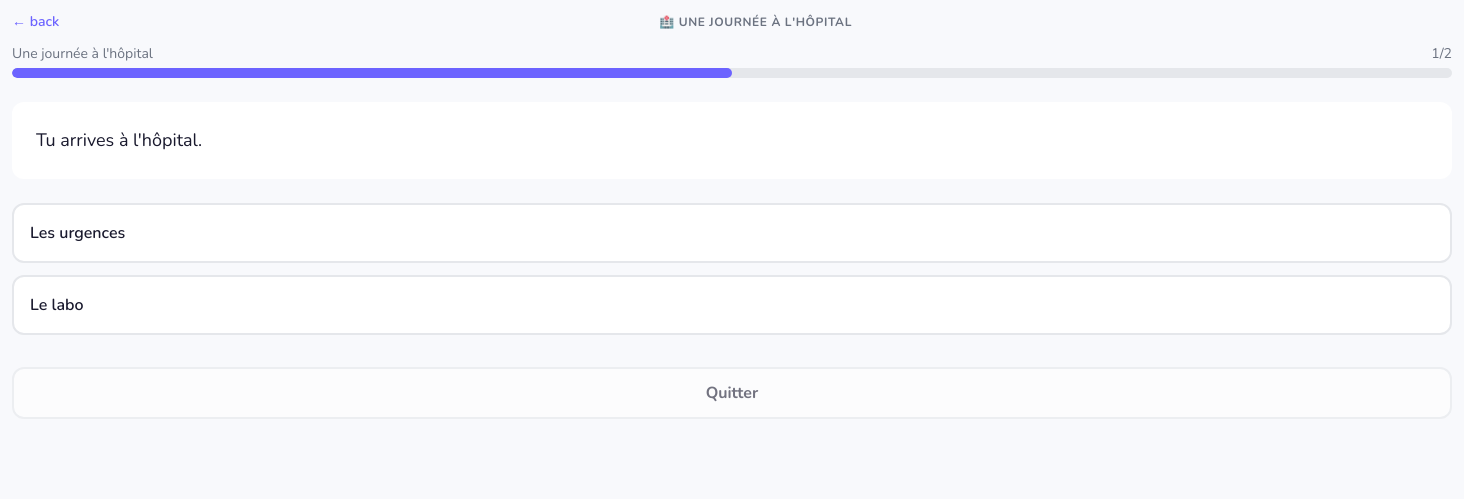
Scenario: ScenarioPlayer › advances to the end screen when a choice leads to a final scene
Click the button "Les urgences" at coordinates (78, 233), box [12,203,1452,263]
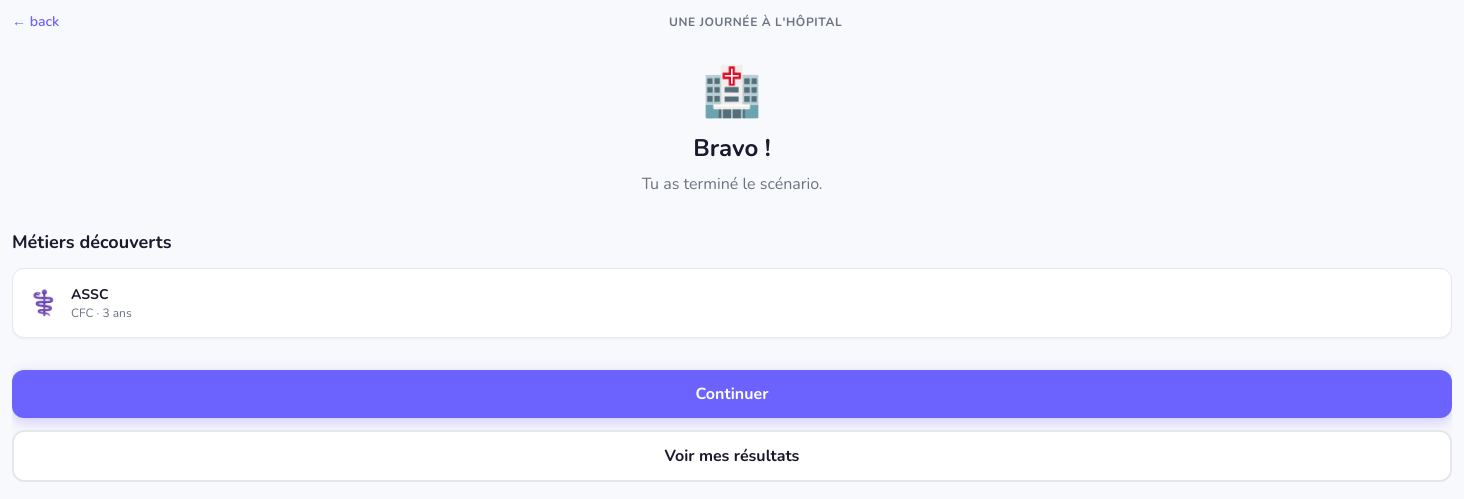
Expected: the heading "Bravo !" is shown, [693,132,771,164]
Expected: the text "Tu arrives à l'hôpital." is gone
